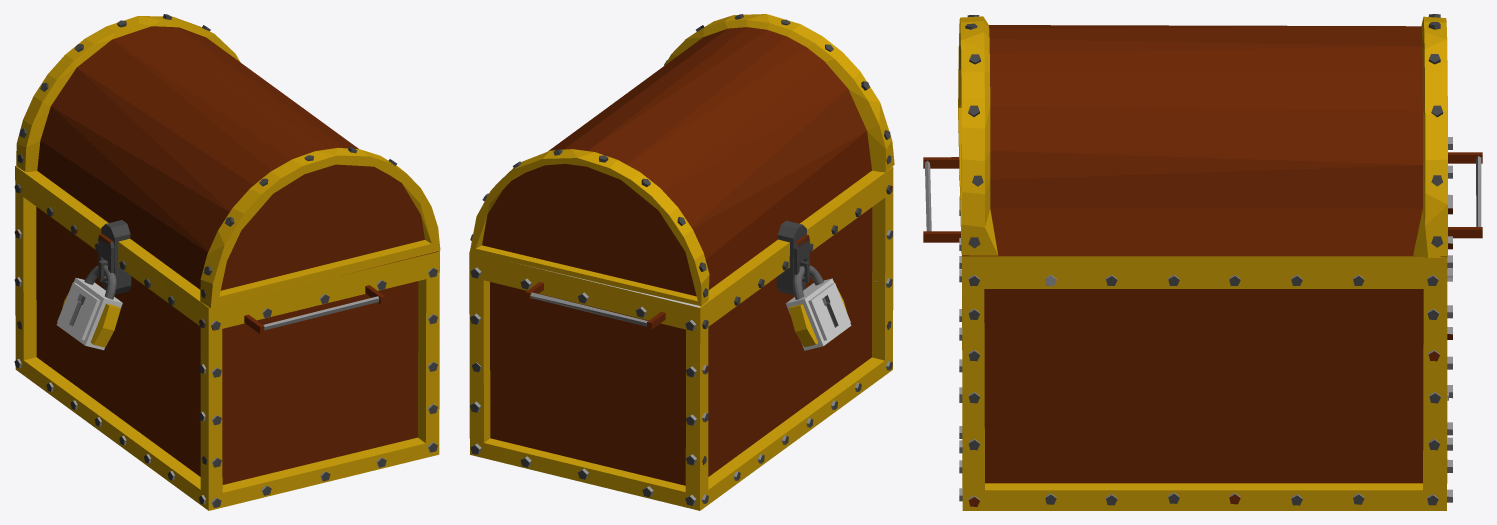
The model's file is WhiteChestAndLock.fbx.
3 renders of one model, left to right at view 1: azimuth 30°, elevation 25°; view 2: azimuth 150°, elevation 25°; view 3: azimuth 270°, elevation 25°, orthographic. The views are drawn at different scales.
Parts seen in each view (by area): view 1: Cube.001, Cube; view 2: Cube.001, Cube; view 3: Cube.001.
Boxes of the visible parts, left/top/right/bottom form: Cube.001: left=14, top=14, right=440, bottom=510; Cube: left=56, top=265, right=122, bottom=350; Cube.001: left=469, top=14, right=894, bottom=510; Cube: left=785, top=265, right=851, bottom=350; Cube.001: left=923, top=14, right=1482, bottom=510.
Size of the model in its own units: 239 by 270 by 334.
